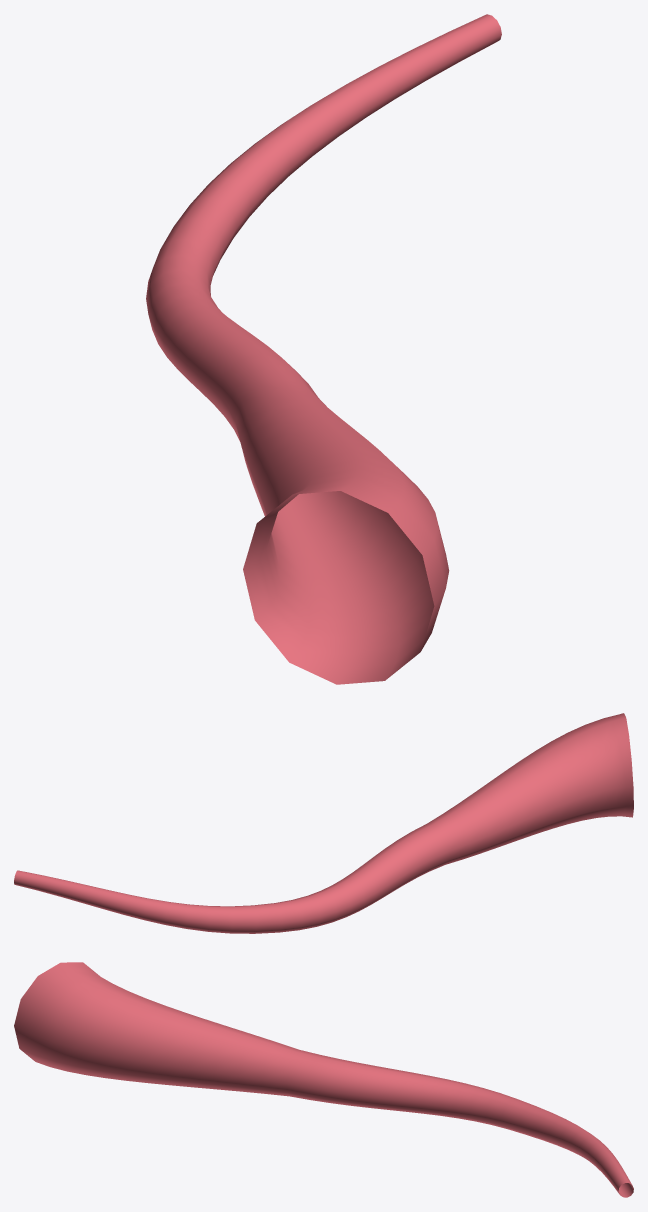
3 views of the same model, one above another, from view 1: azimuth 30°, elevation 25°; view 2: azimuth 150°, elevation 25°; view 3: azimuth 270°, elevation 25° (orthographic). The views are drawn at different scales.
Visible parts, largest first — view 1: ZA_8ccadab0ae5ac7f4; view 2: ZA_8ccadab0ae5ac7f4; view 3: ZA_8ccadab0ae5ac7f4.
Part boxes in pixels (x1=…): ZA_8ccadab0ae5ac7f4: x1=146, y1=14, x2=501, y2=684; ZA_8ccadab0ae5ac7f4: x1=14, y1=713, x2=633, y2=933; ZA_8ccadab0ae5ac7f4: x1=14, y1=962, x2=633, y2=1197.
Bounding box in the file's own units: 0.0286 × 0.00699 × 0.039.
